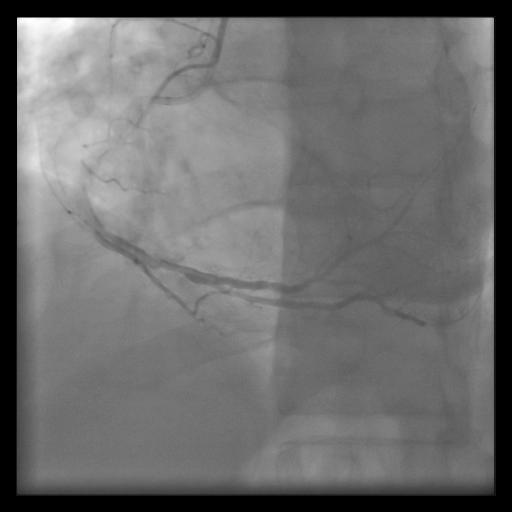Stenosis: (149, 248, 193, 285)
